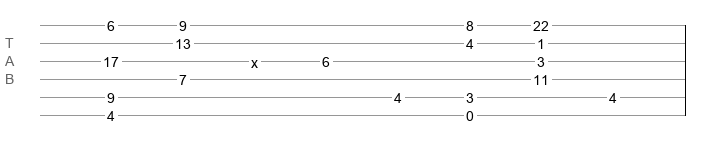0: (466, 108, 474, 118)
1: (537, 36, 545, 46)
11: (533, 72, 549, 82)
13: (175, 36, 191, 46)
17: (103, 54, 119, 64)
22: (533, 18, 549, 28)
3: (466, 90, 474, 100), (537, 54, 545, 64)
4: (107, 108, 115, 118), (394, 90, 402, 100), (466, 36, 474, 46), (609, 90, 617, 100)
6: (107, 18, 115, 28), (322, 54, 330, 64)
7: (179, 72, 187, 82)
8: (466, 18, 474, 28)
9: (107, 90, 115, 100), (179, 18, 187, 28)
x: (251, 55, 258, 63)
